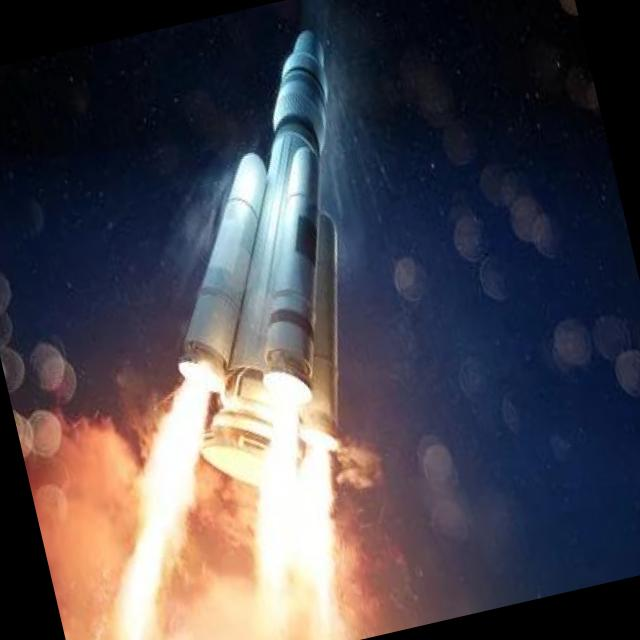rocket: (39, 23, 454, 611)
